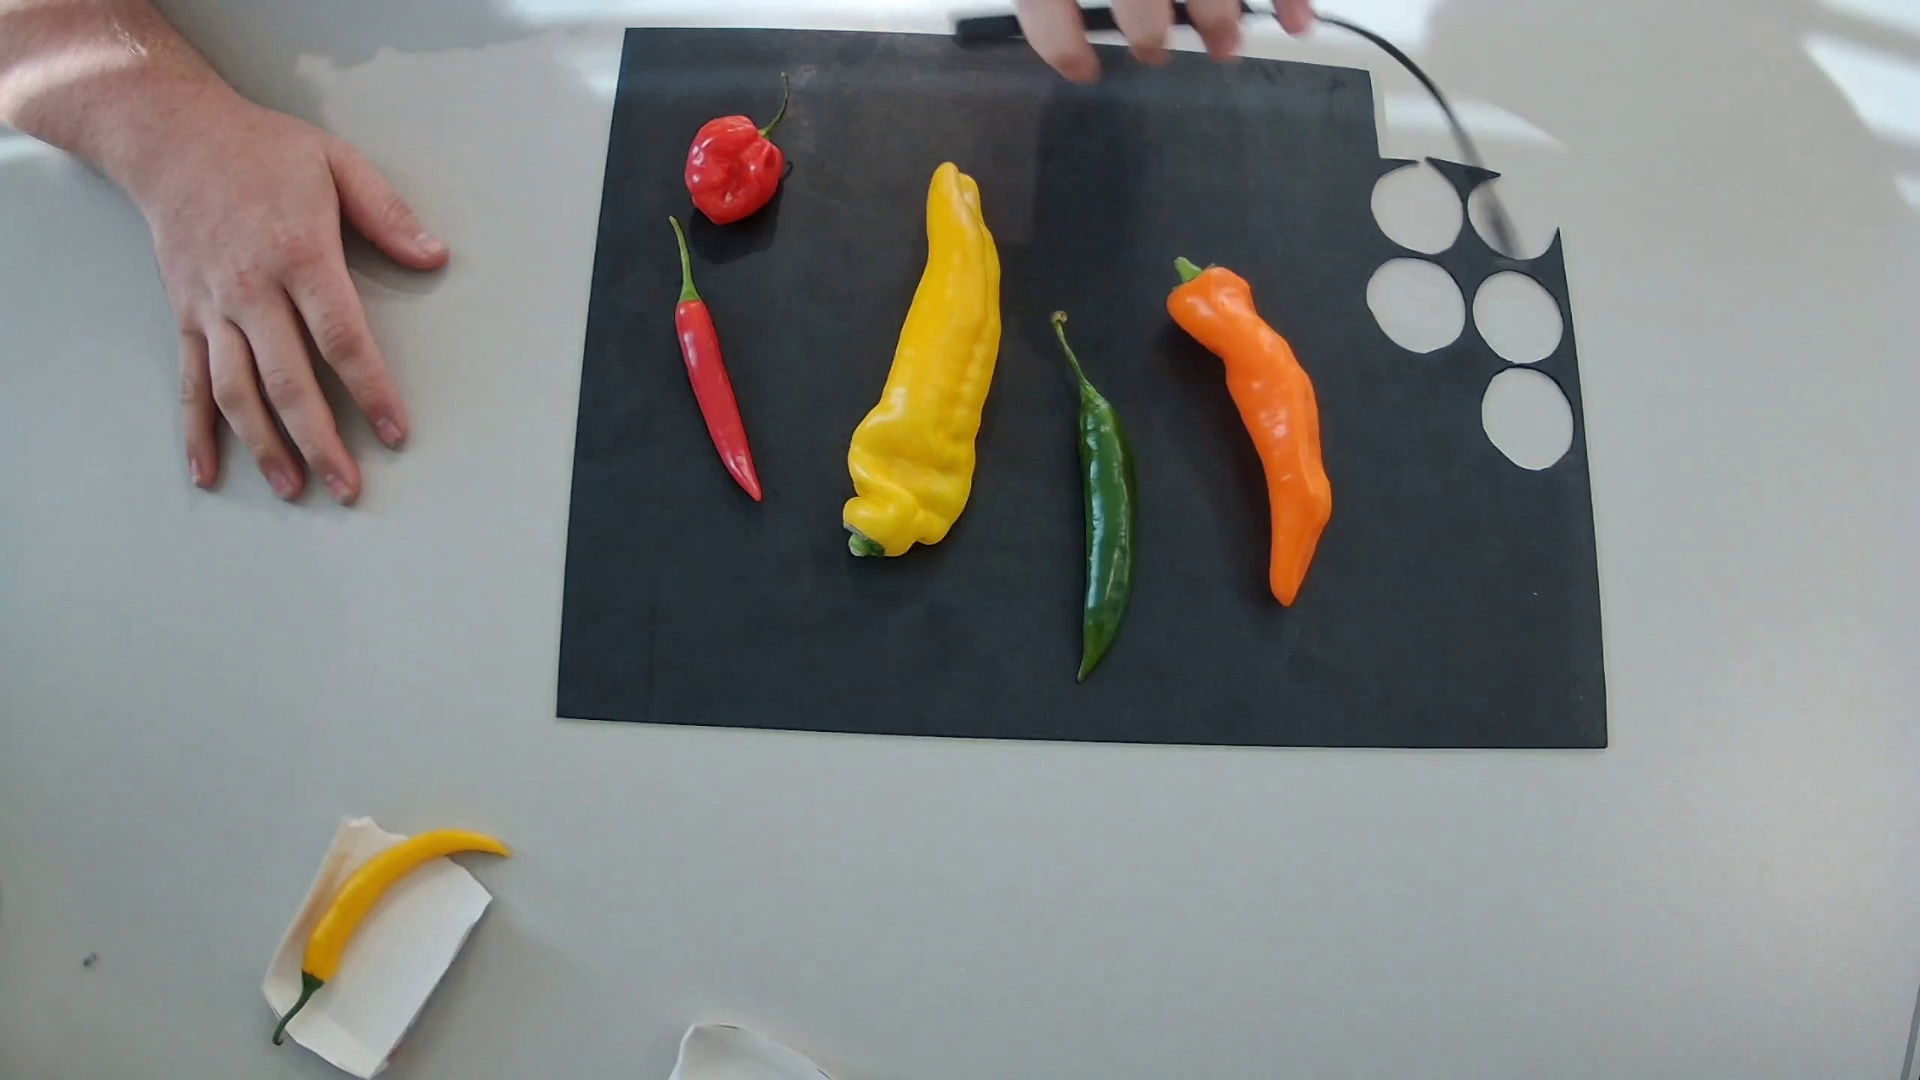Habanero_Pepper_Red: (684, 70, 790, 224)
Spanish_Pepper_Green: (1049, 310, 1135, 682)
Spanish_Pepper_Red: (668, 215, 762, 502)
Spanish_Pepper_Yellow: (272, 829, 508, 1046)
Sweet_Pepper_Orange: (1168, 255, 1332, 605)
Sweet_Pepper_Yellow: (843, 162, 1002, 558)
